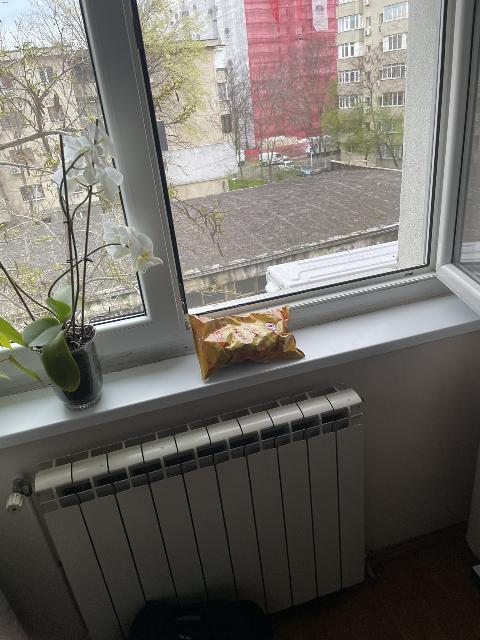Chio Hula Hoops Cheese 70g: (188, 305, 305, 379)
